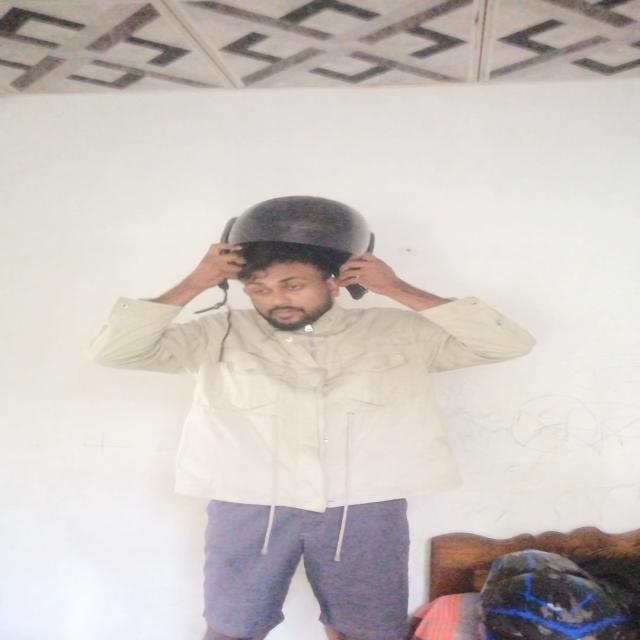Helmet_Wearer: (205, 198, 391, 330)
Jacket_Wearer: (114, 282, 522, 510)
Person: (133, 201, 532, 640)
